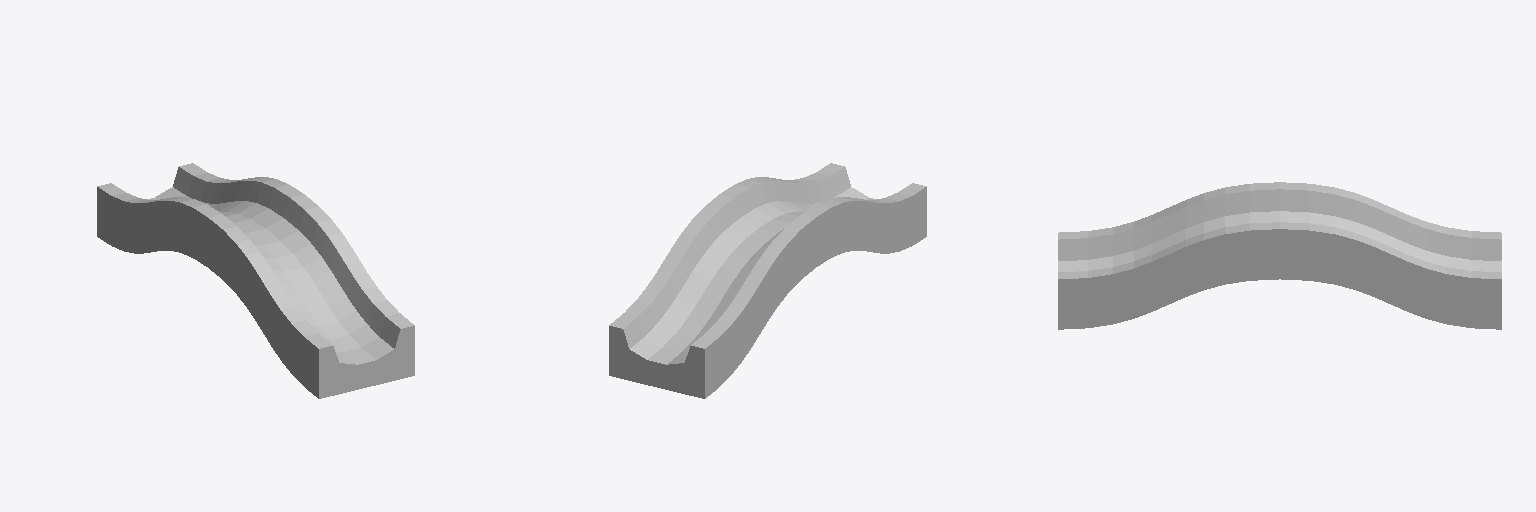
The model's file is bump-b.obj.
3 views of the same model, side by side, from view 1: azimuth 30°, elevation 25°; view 2: azimuth 150°, elevation 25°; view 3: azimuth 270°, elevation 25° (orthographic).
Visible parts, largest first — view 1: bump-b; view 2: bump-b; view 3: bump-b.
Boxes of the visible parts, x1=… form: bump-b: x1=97, y1=163, x2=414, y2=398; bump-b: x1=609, y1=163, x2=926, y2=398; bump-b: x1=1058, y1=182, x2=1501, y2=329.
Bounding box in the file's own units: 1 × 1 × 4.